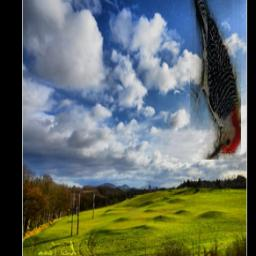Woodpecker: (190, 0, 241, 160)
